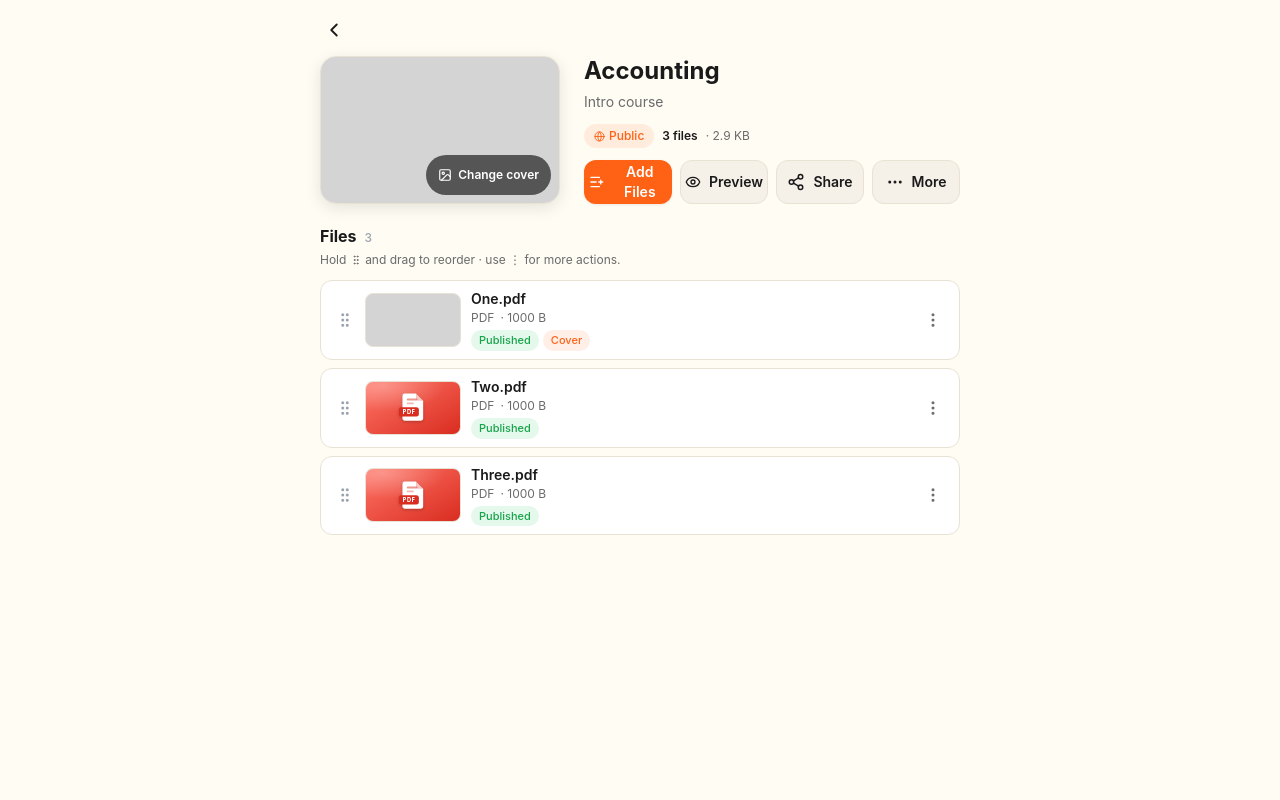
Test: Creator playlist page — playlist More menu › Share settings opens the existing share dialog
This screenshot has width=1280, height=800.
Click the button with test id "action-menu-button" at (916, 182), box [872,160,960,204]
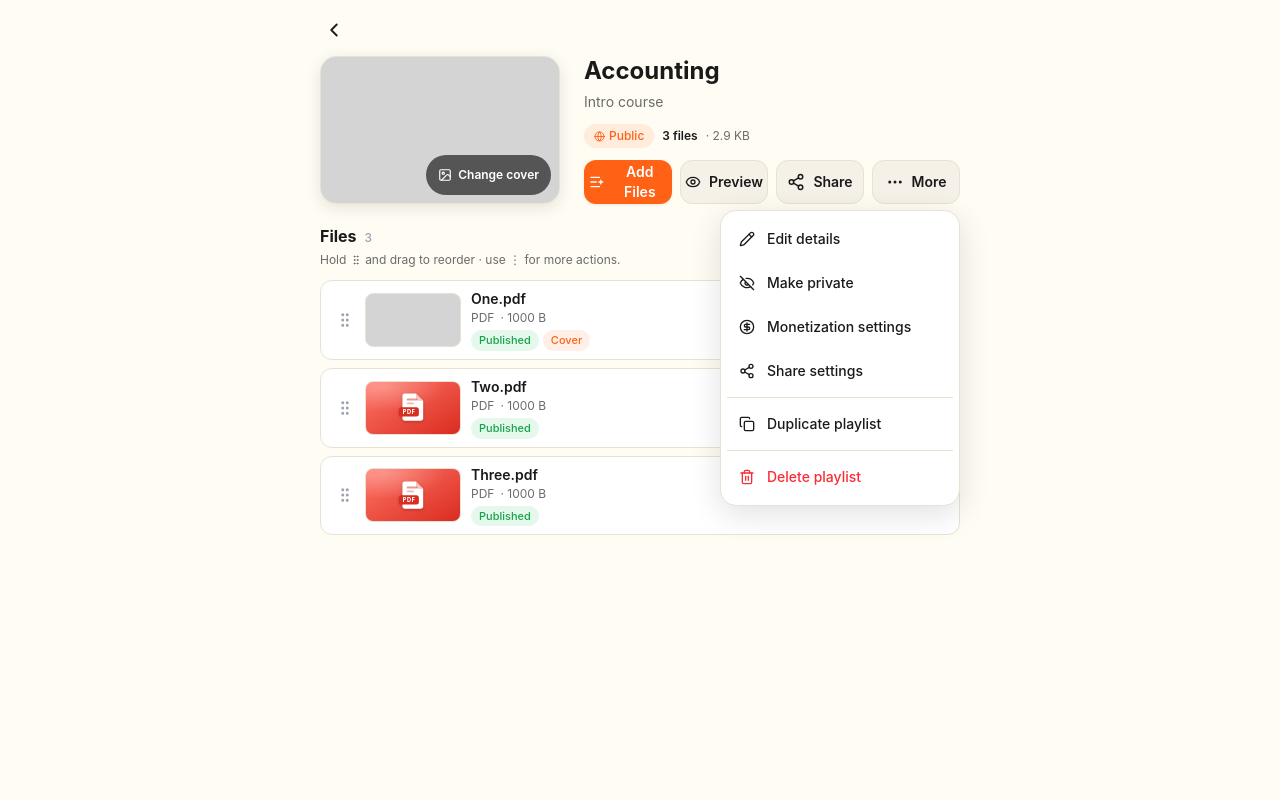
Click the menu item with test id "menu-item-share" at (840, 371), box [727,349,953,393]
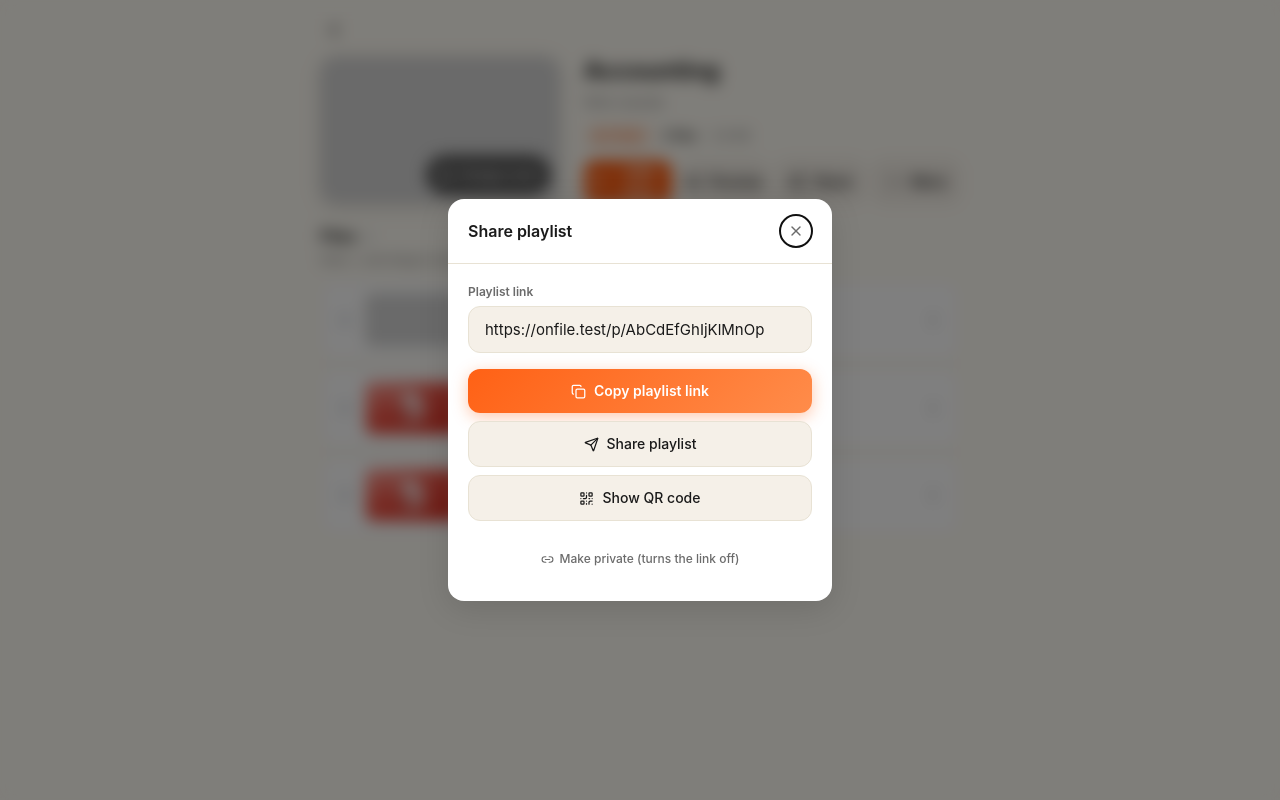
Result: the element with test id "share-sheet" is shown at [468,284,812,581]
